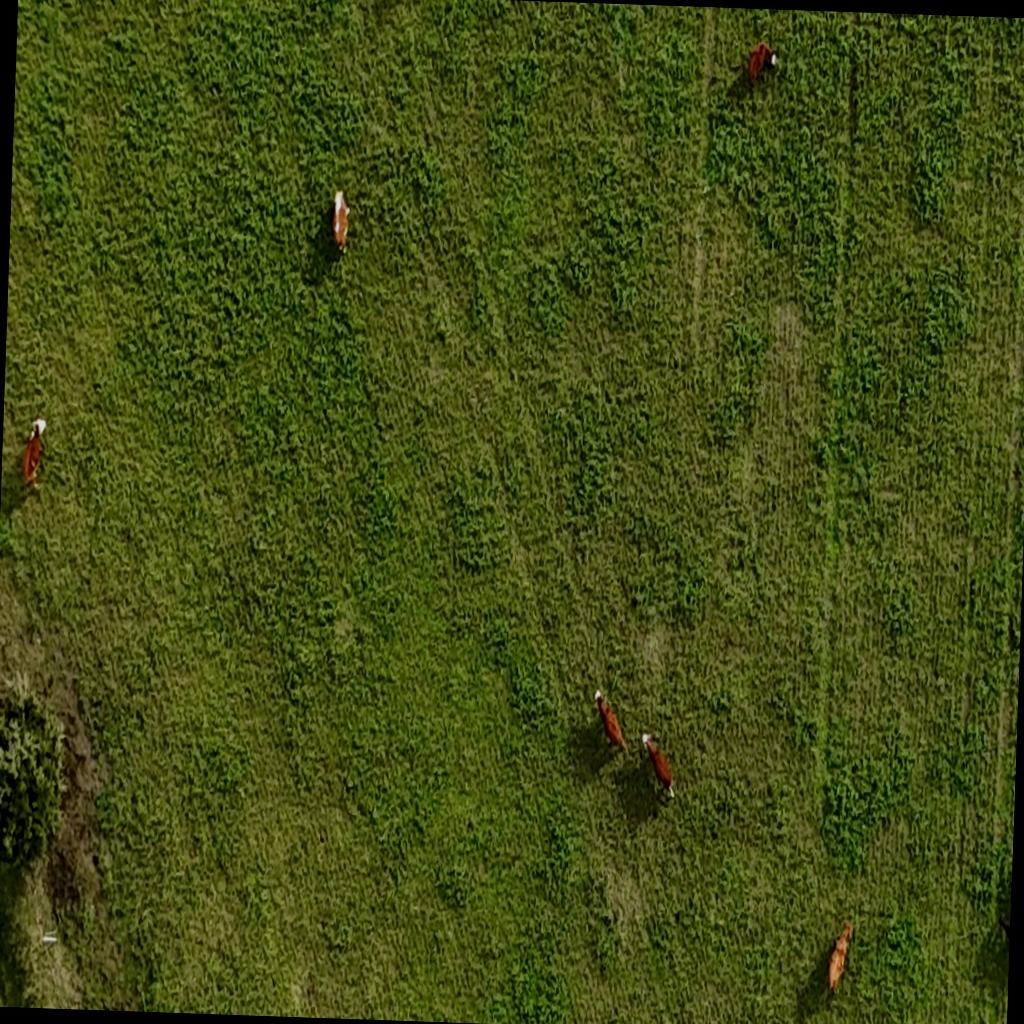cow: (636, 724, 678, 804), (590, 684, 630, 756), (823, 918, 854, 1000), (324, 187, 354, 269), (22, 414, 50, 492), (745, 38, 779, 96)
